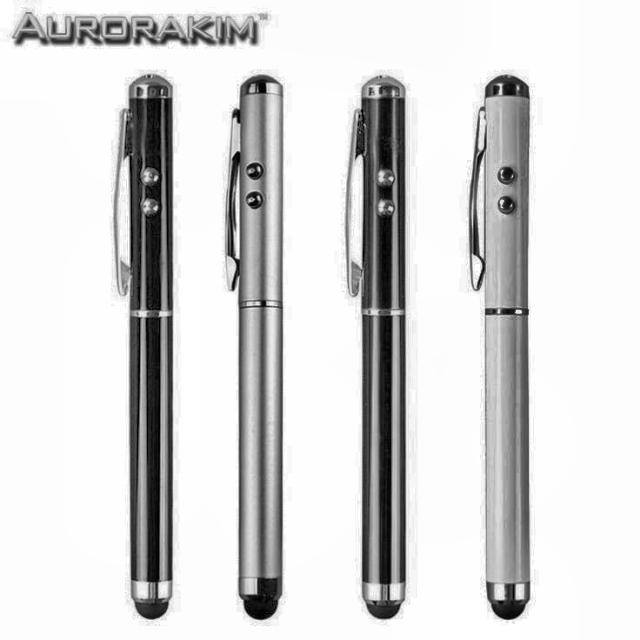Pen: (99, 70, 188, 624), (336, 70, 422, 619), (219, 70, 299, 626), (466, 73, 544, 623)
